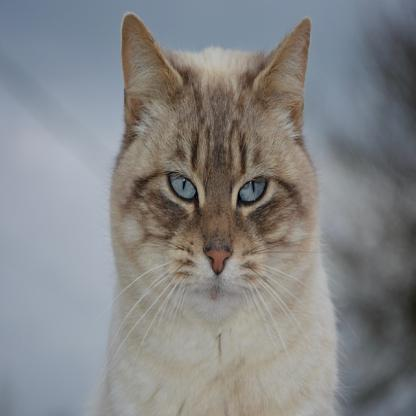cat: (101, 11, 338, 415)
